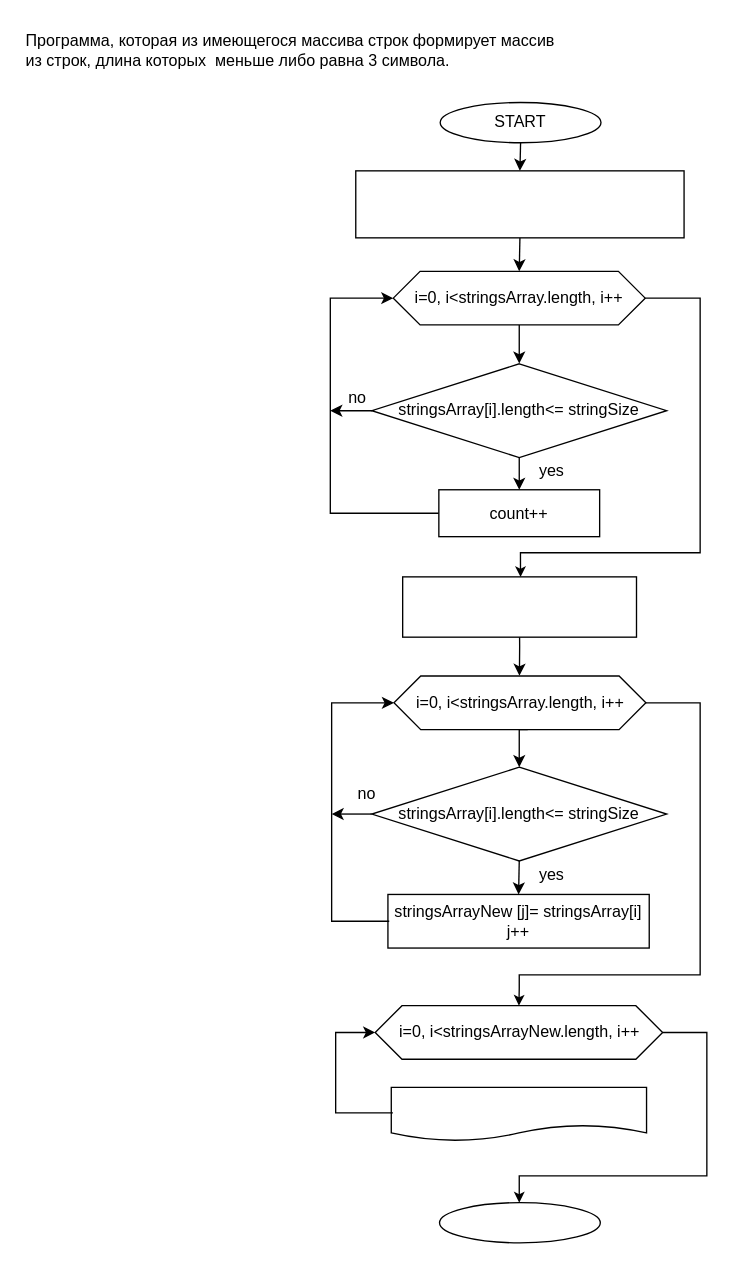
This 740x1266 diagram has some shape labels left out. The centre of each missing label's shape, as x and y in pixels:
END: (x=519, y=1222)
Print stringsArrayNew .length[i]: (x=518, y=1113)
stringsArray = [ "hello", "2", "world"] stringSize = 3 count=0: (x=519, y=204)
stringsArrayNew [count] j=0: (x=518, y=606)
